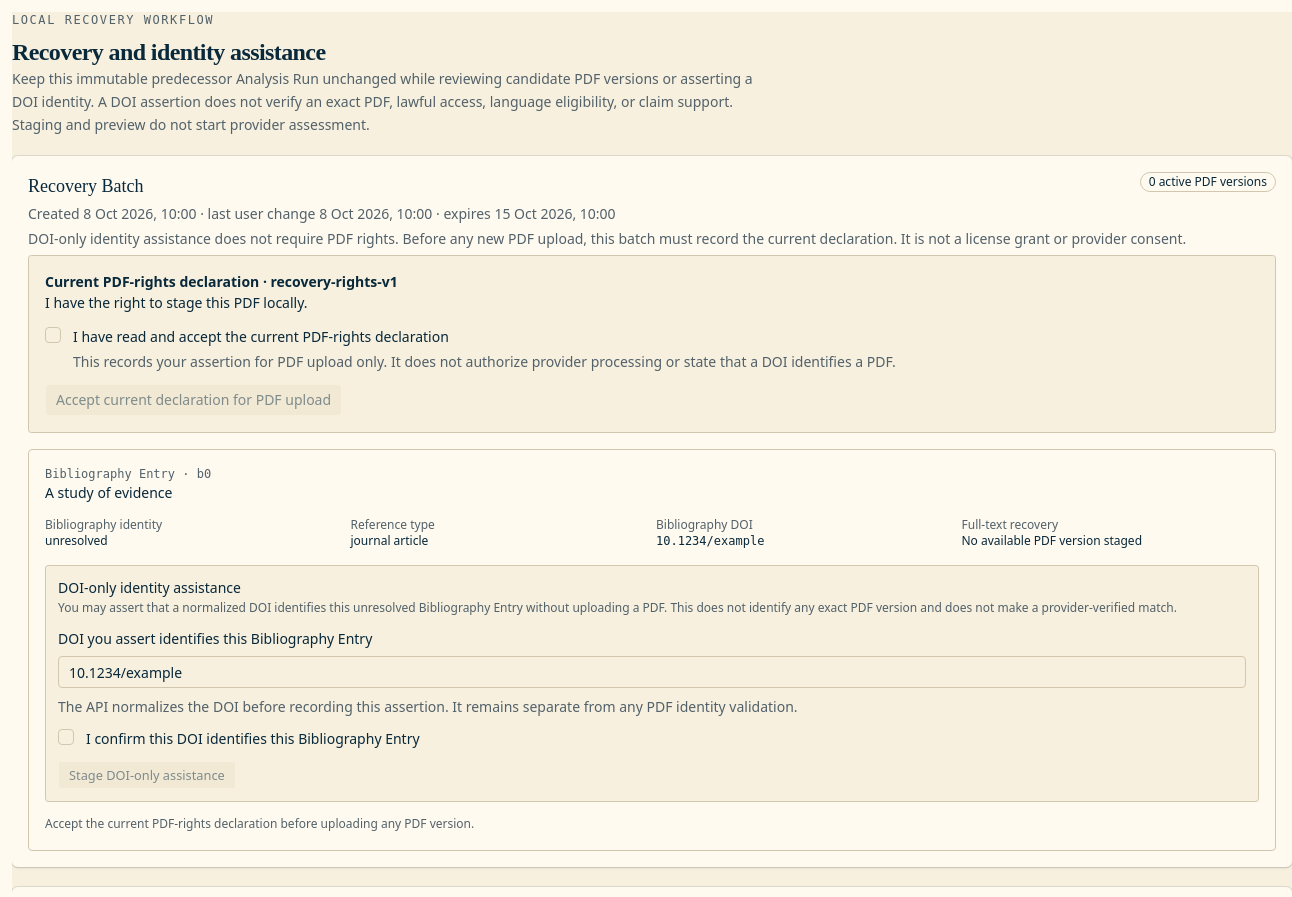
Test case: Recovery Upload workspace › requires explicit acceptance of the current PDF-rights declaration before upload controls appear
Expected: the text "Before any new PDF upload" is shown, [28,229,1186,248]
Expected: the button "Choose another PDF version" is not shown
Click the checkbox named "I have read and accept the current PDF-rights declaration" below "Current PDF-rights declaration ·": point(53, 335) [45,327,61,343]
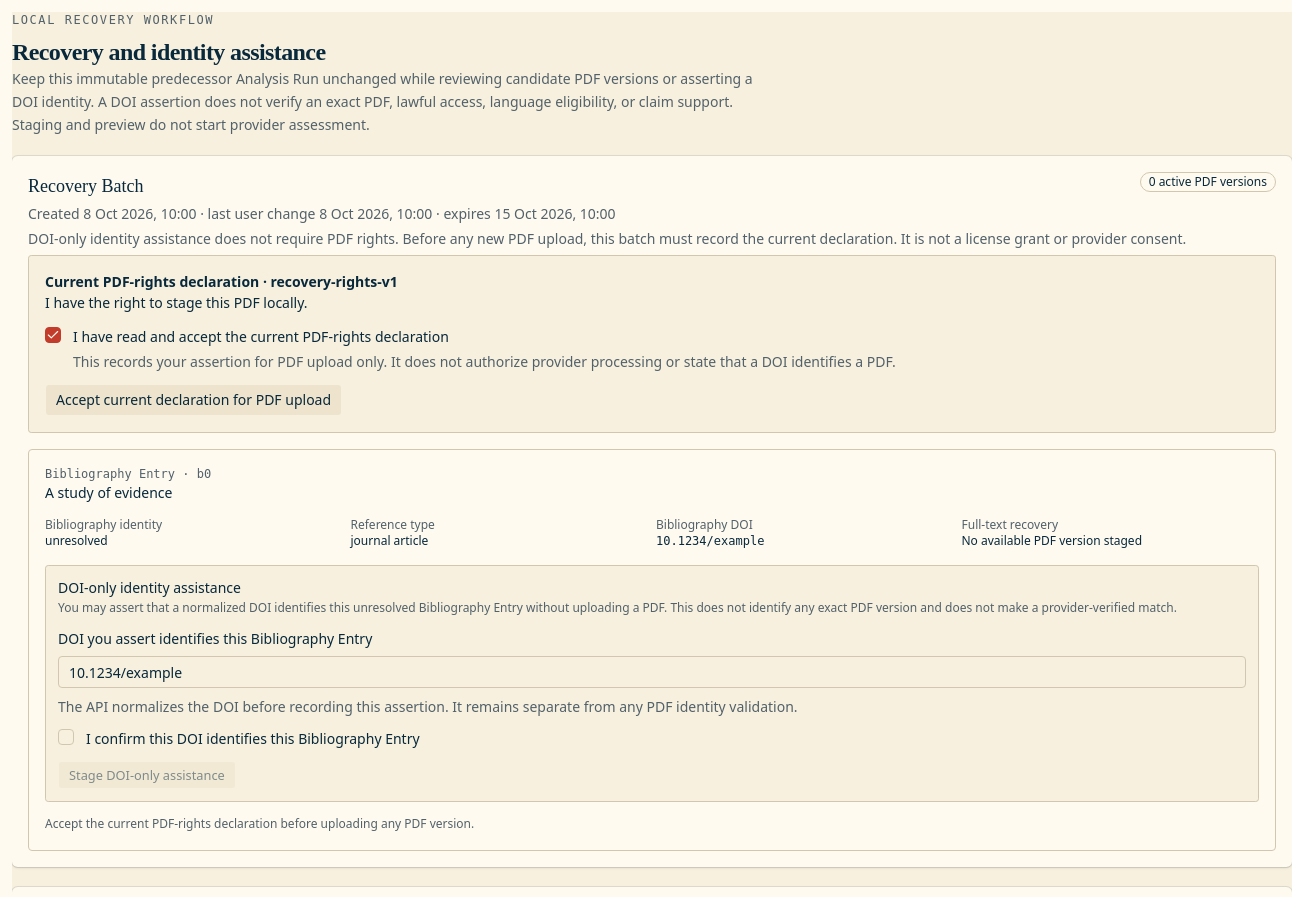
Click the button "Accept current declaration for PDF upload": point(194, 400) [45,384,342,416]
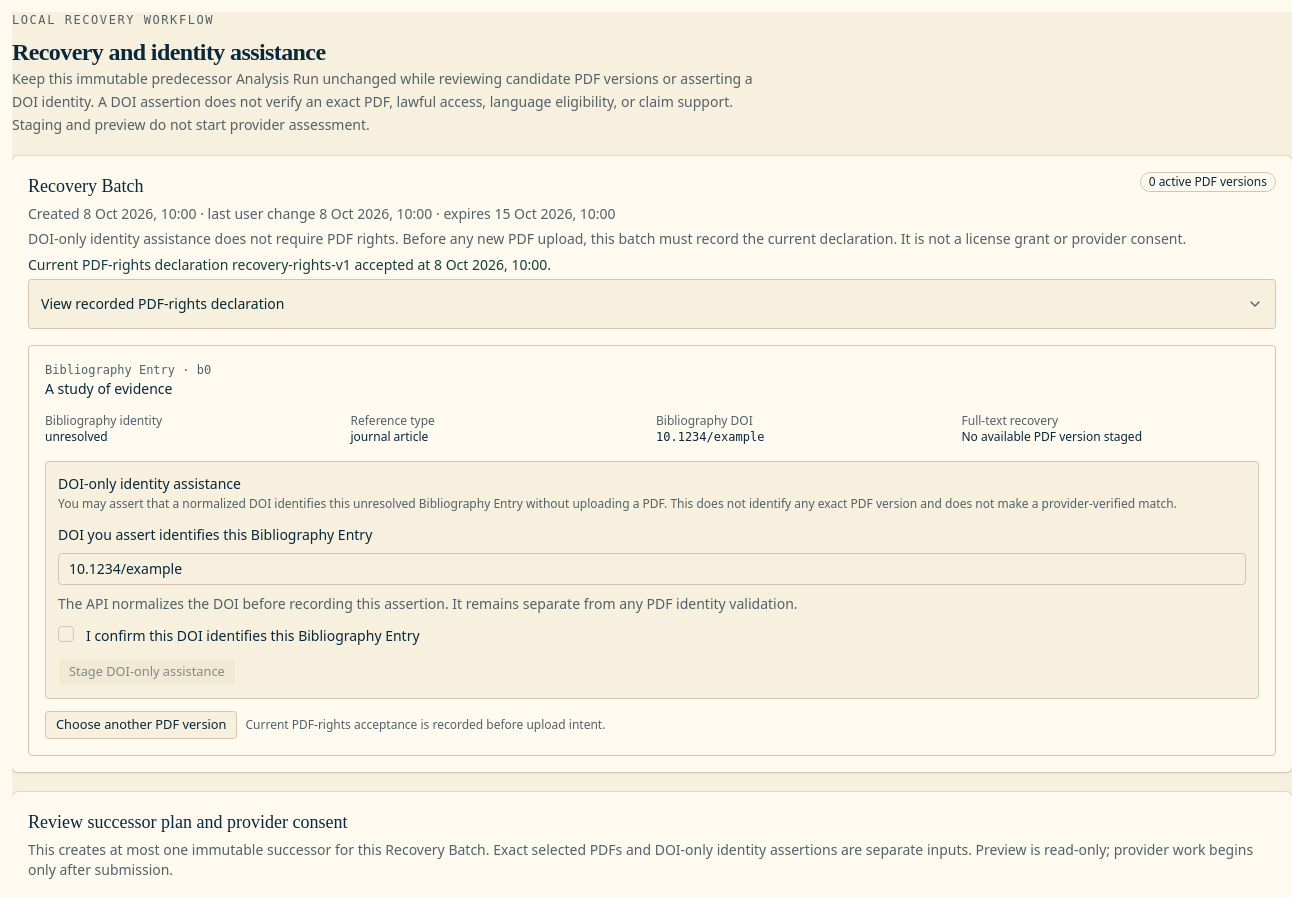
Expected: the text "Current PDF-rights declaration recovery-rights-v1 accepted" is shown, [28,255,551,274]
Expected: the button "Choose another PDF version" is shown, [45,710,238,738]
